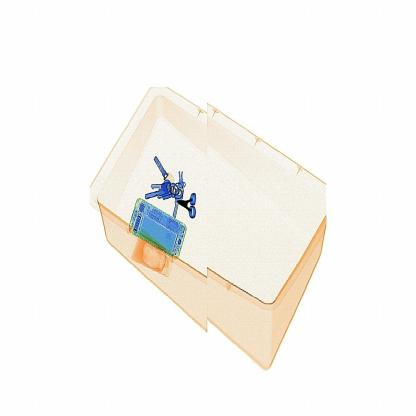gun: (168, 190, 211, 224)
